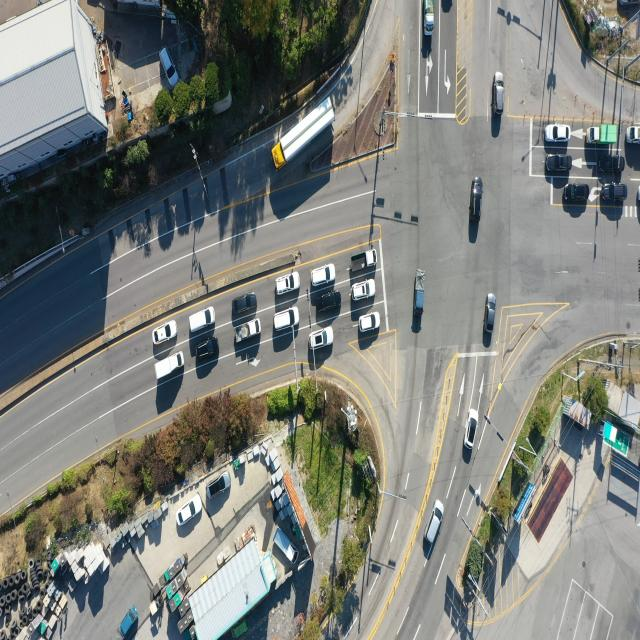car: (179, 495, 205, 527), (158, 48, 178, 88), (425, 499, 443, 543), (188, 306, 216, 334), (274, 306, 300, 330), (208, 474, 231, 501), (470, 177, 483, 222), (230, 291, 255, 314), (277, 273, 301, 296), (154, 321, 178, 344), (196, 340, 221, 362), (310, 266, 334, 288), (310, 329, 334, 351), (319, 290, 343, 312), (464, 408, 477, 448), (604, 182, 629, 202), (546, 125, 572, 144), (350, 281, 374, 301), (548, 153, 572, 173), (566, 183, 590, 202), (486, 292, 496, 337), (358, 312, 379, 333), (598, 156, 622, 174), (494, 72, 504, 115), (618, 0, 640, 7)
medium_truck: (272, 97, 334, 172)
small_truck: (157, 350, 185, 381), (274, 529, 298, 561), (588, 125, 620, 147), (234, 317, 262, 342), (350, 250, 377, 274), (414, 270, 426, 316), (118, 610, 136, 640), (423, 0, 435, 37), (626, 126, 640, 145)
